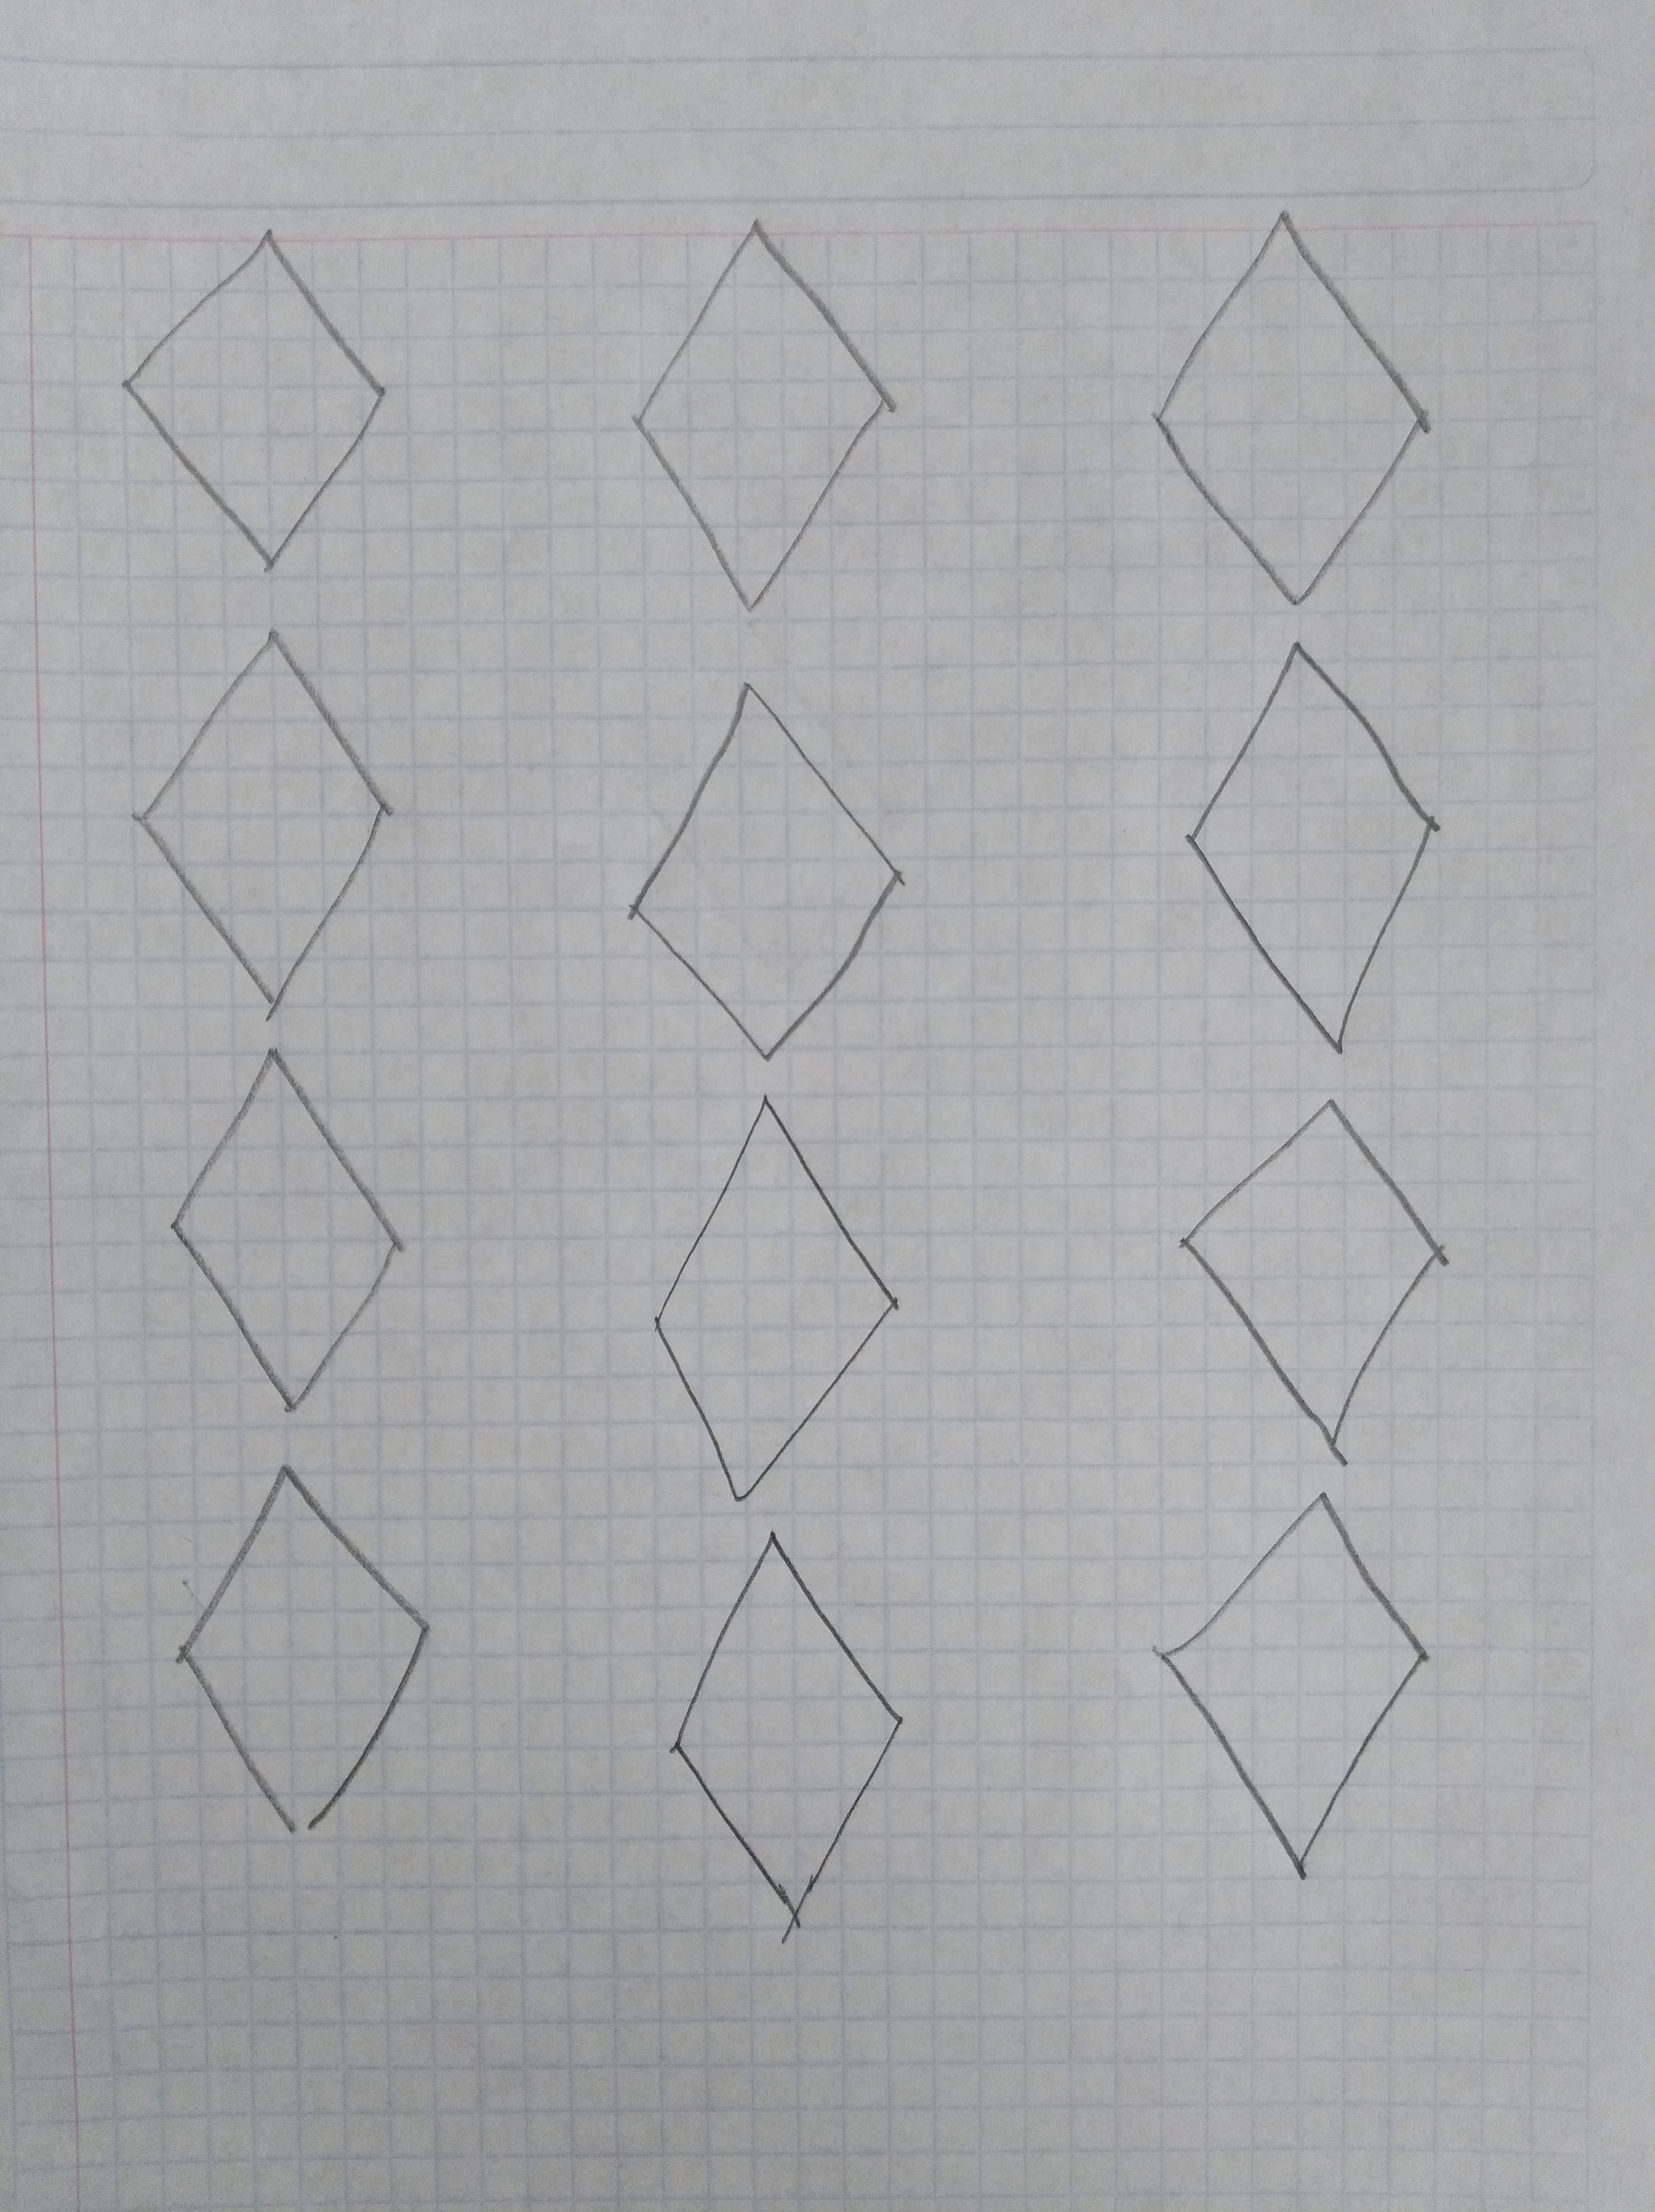decision: (1127, 182, 1459, 613), (87, 612, 426, 1027), (619, 1084, 949, 1510), (595, 662, 930, 1074), (602, 200, 916, 638), (1133, 1480, 1445, 1894), (85, 198, 412, 589), (130, 1041, 459, 1423), (1161, 1088, 1486, 1472), (1173, 638, 1460, 1067), (150, 1449, 452, 1847), (641, 1520, 913, 1957)
